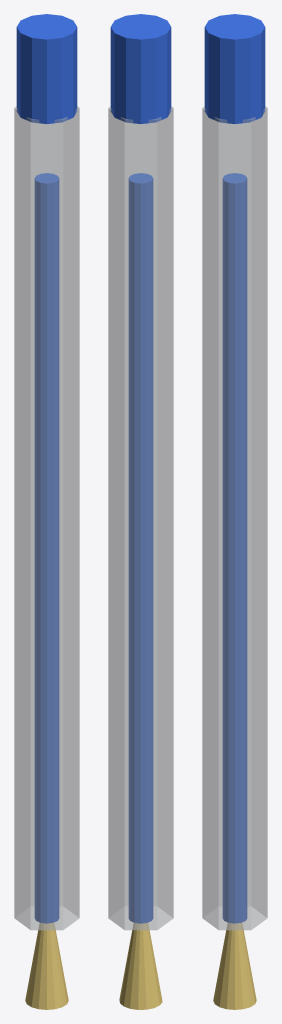
File: ballpoint_pen_blue.glb
3 renders of one model, left to right at view 1: azimuth 90°, elevation 25°; view 2: azimuth 150°, elevation 25°; view 3: azimuth 270°, elevation 25°, orthographic.
Visible parts, largest first — view 1: Pen_HexBarrel, Pen_InkTue, Pen_TopPlug, Pen_BrassCone; view 2: Pen_HexBarrel, Pen_InkTue, Pen_TopPlug, Pen_BrassCone; view 3: Pen_HexBarrel, Pen_InkTue, Pen_TopPlug, Pen_BrassCone.
Boxes of the visible parts, x1,y1,x2,y2 form: Pen_HexBarrel: [14, 106, 79, 930]; Pen_InkTue: [34, 173, 59, 923]; Pen_TopPlug: [16, 14, 77, 123]; Pen_BrassCone: [25, 923, 68, 1009]; Pen_HexBarrel: [108, 106, 173, 930]; Pen_InkTue: [128, 173, 153, 923]; Pen_TopPlug: [110, 14, 171, 123]; Pen_BrassCone: [119, 923, 162, 1009]; Pen_HexBarrel: [202, 106, 267, 930]; Pen_InkTue: [222, 173, 247, 923]; Pen_TopPlug: [204, 14, 265, 123]; Pen_BrassCone: [213, 923, 256, 1009].
Bounding box in the file's own units: 0.0078 × 0.139 × 0.0084.
